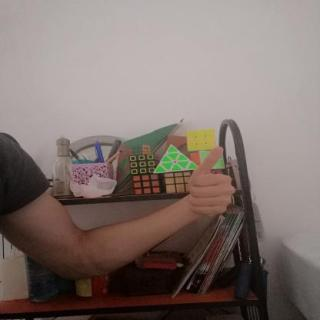ALIF: (180, 140, 238, 223)
